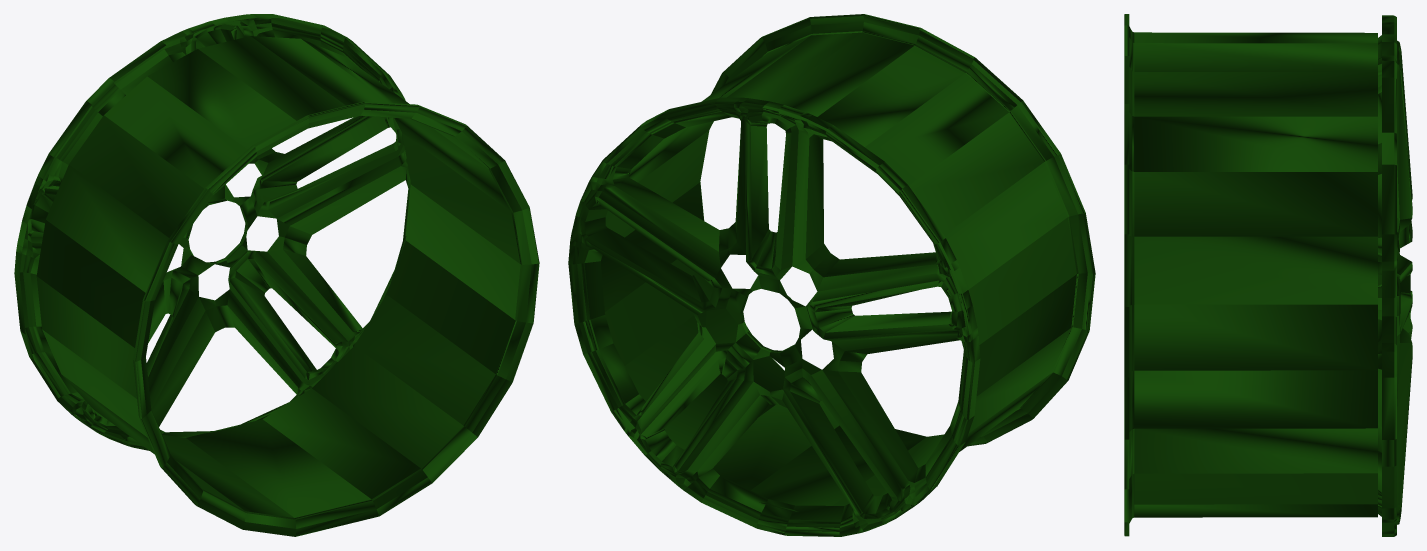
File: kolpak_vse.fbx
3 views of the same model, side by side, from view 1: azimuth 30°, elevation 25°; view 2: azimuth 150°, elevation 25°; view 3: azimuth 270°, elevation 25° (orthographic). The views are drawn at different scales.
Visible parts, largest first — view 1: disk; view 2: disk; view 3: disk.
Part boxes in pixels (x1,y1,x2,y2): disk: (14,14,539,536); disk: (568,14,1095,536); disk: (1124,14,1412,536).
Size of the model in its own units: 5.28 by 5.27 by 2.91.
